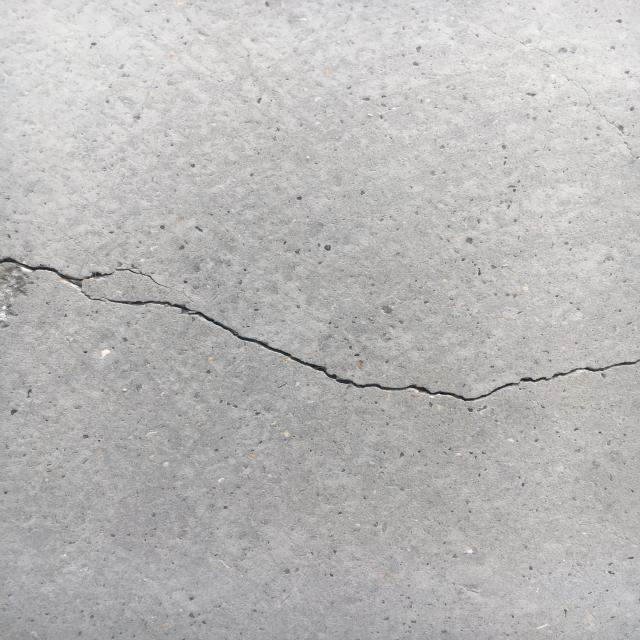Rachadura: (0, 253, 640, 407)
